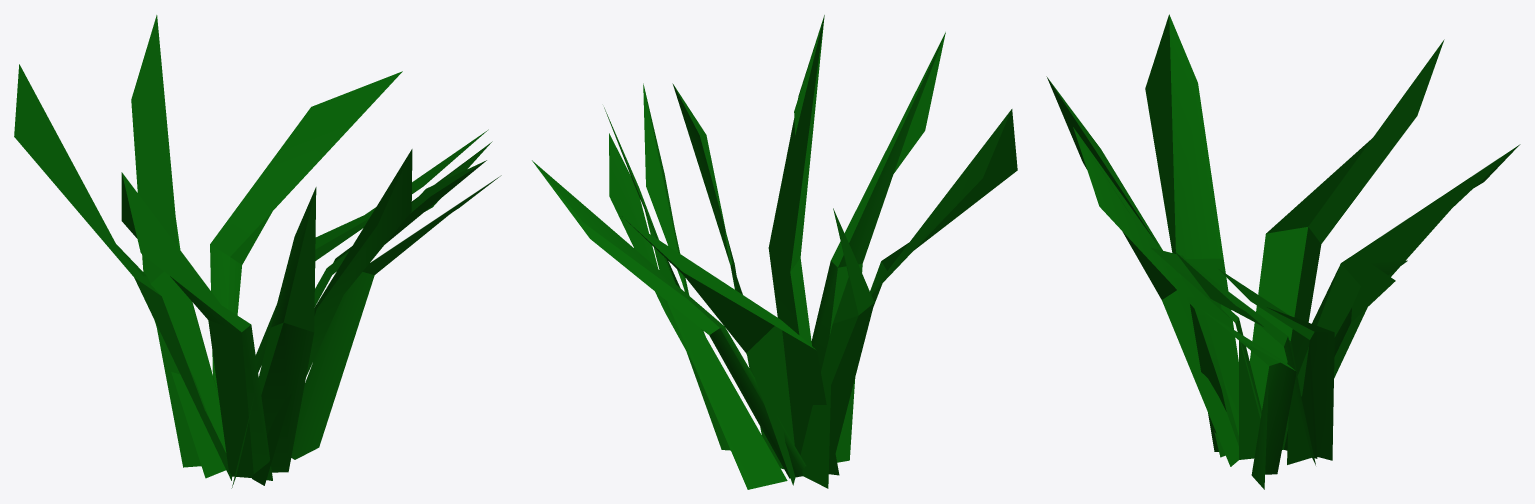
Rendered from grassSmall.fbx.
3 views of the same model, side by side, from view 1: azimuth 30°, elevation 25°; view 2: azimuth 150°, elevation 25°; view 3: azimuth 270°, elevation 25° (orthographic). The views are drawn at different scales.
Parts seen in each view (by area): view 1: grassSmall; view 2: grassSmall; view 3: grassSmall.
Part boxes in pixels (box(x1,y1,x2,y2)): grassSmall: box(14, 15, 501, 488); grassSmall: box(532, 15, 1017, 489); grassSmall: box(1046, 14, 1520, 489).
Bounding box in the file's own units: 56.59 × 50.96 × 60.75.
